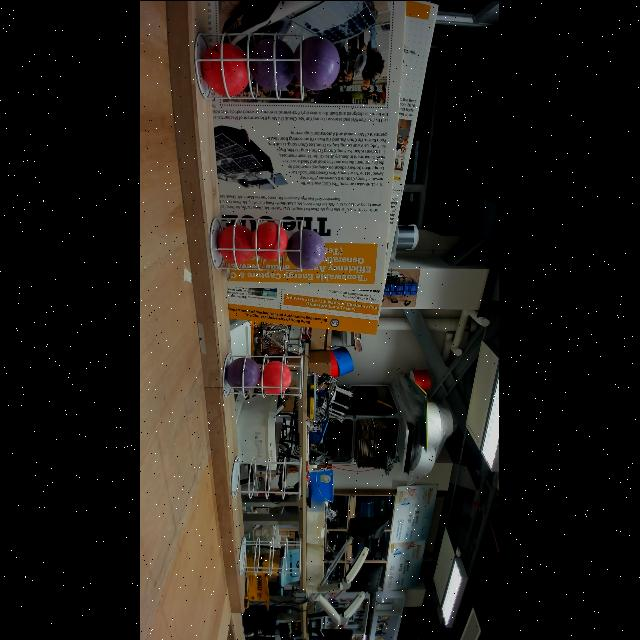P: (292, 34, 342, 90), (249, 37, 297, 91), (287, 227, 327, 269), (226, 356, 260, 392)
R: (201, 41, 251, 97), (217, 224, 257, 264), (251, 221, 289, 259), (260, 360, 292, 394)
S: (193, 30, 305, 100), (209, 215, 305, 271), (222, 352, 304, 398), (230, 454, 304, 498), (239, 536, 303, 576)
